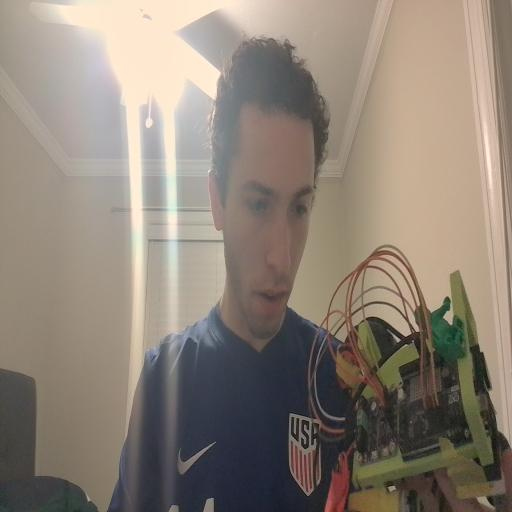green LEGO minifig: (414, 295, 467, 367)
